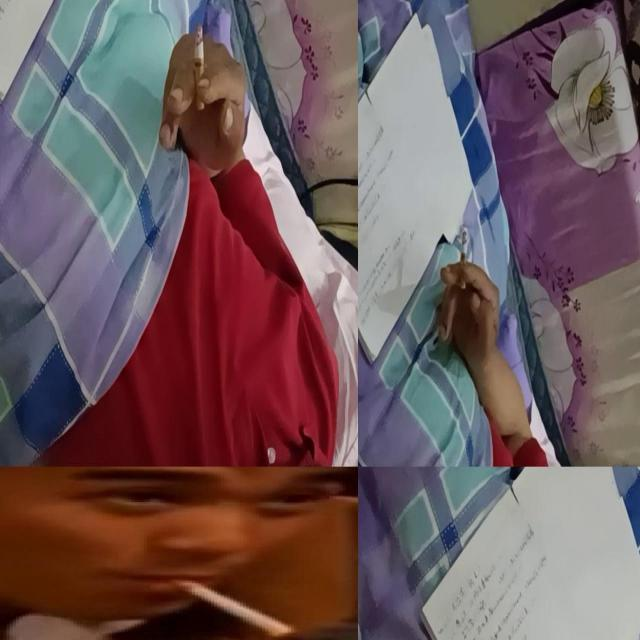cigarette: (166, 577, 298, 637), (194, 24, 204, 110), (460, 230, 468, 288)
